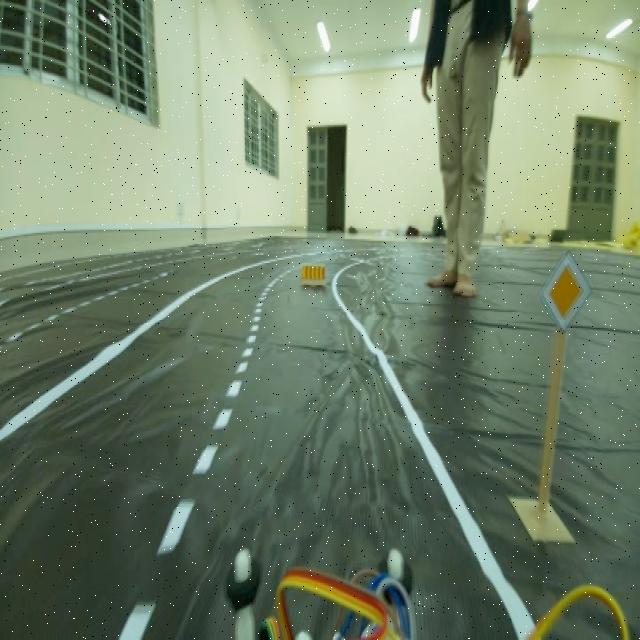priority: (539, 239, 590, 339)
roadblock: (299, 259, 333, 291)
